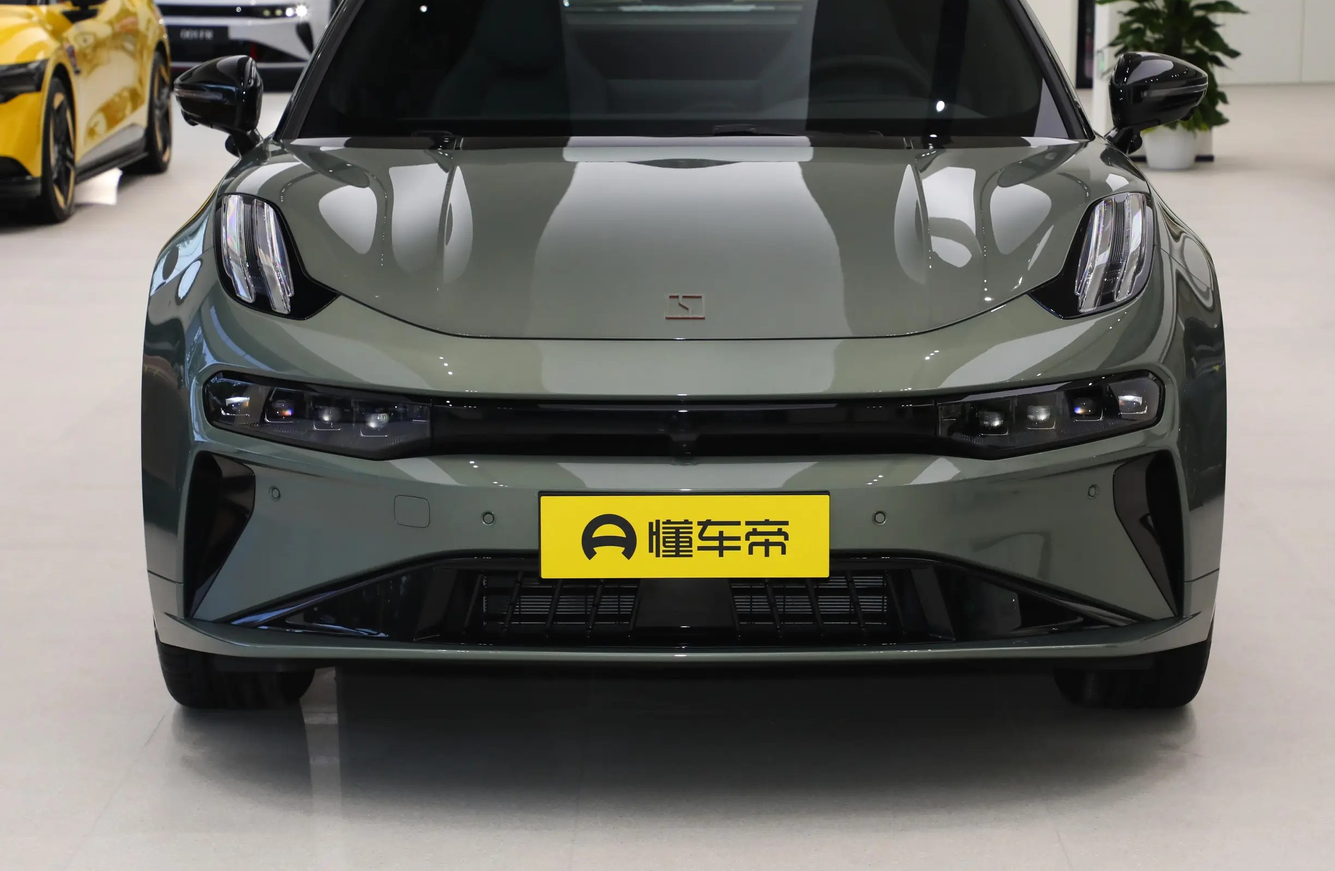ZEEKR: (666, 293, 705, 318)
